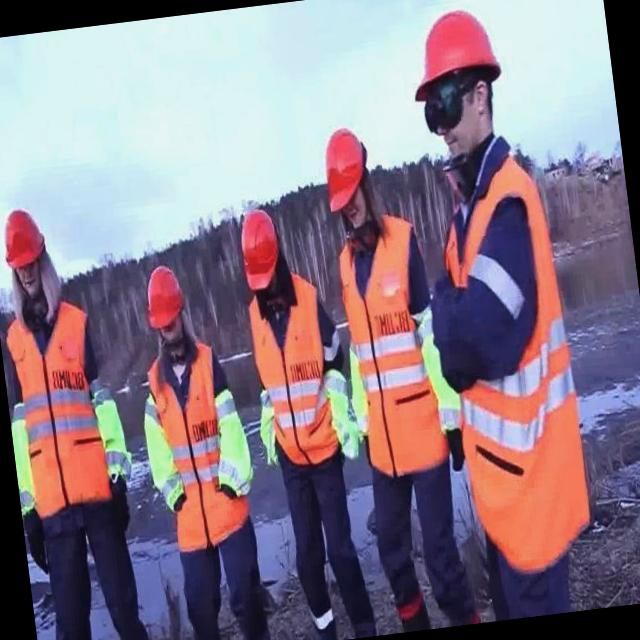vest: (431, 149, 598, 576), (338, 202, 440, 478), (12, 295, 118, 516), (151, 338, 254, 552), (240, 255, 338, 470), (412, 297, 459, 438), (140, 390, 190, 512), (203, 382, 254, 499), (92, 376, 132, 484), (8, 396, 42, 514), (320, 365, 355, 446), (344, 345, 370, 435), (254, 386, 279, 461)
